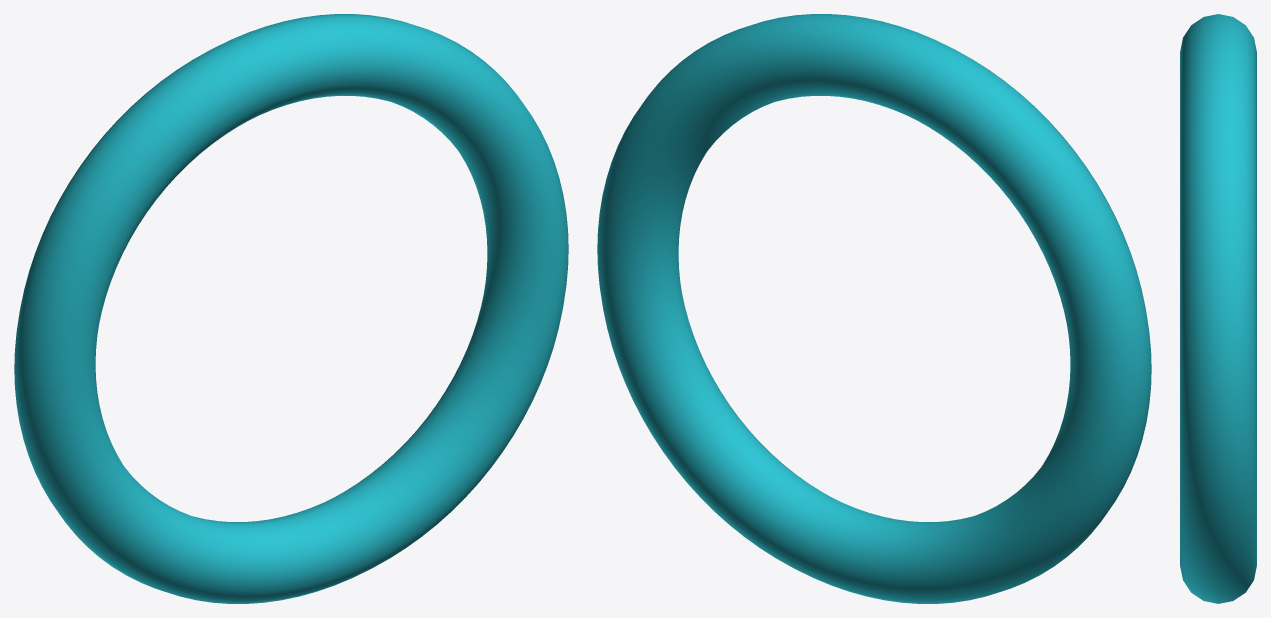
File: timer-ring.glb
3 renders of one model, left to right at view 1: azimuth 30°, elevation 25°; view 2: azimuth 150°, elevation 25°; view 3: azimuth 270°, elevation 25°, orthographic. The views are drawn at different scales.
Bounding box in the file's own units: 2.3 × 2.3 × 0.3.
